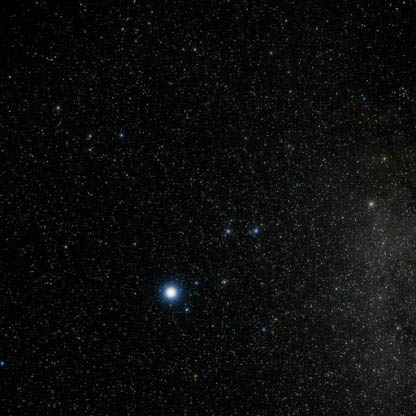Lyra: (160, 279, 181, 303), (189, 274, 205, 291), (218, 224, 236, 239), (218, 271, 233, 289), (247, 225, 263, 240), (183, 300, 195, 317)
